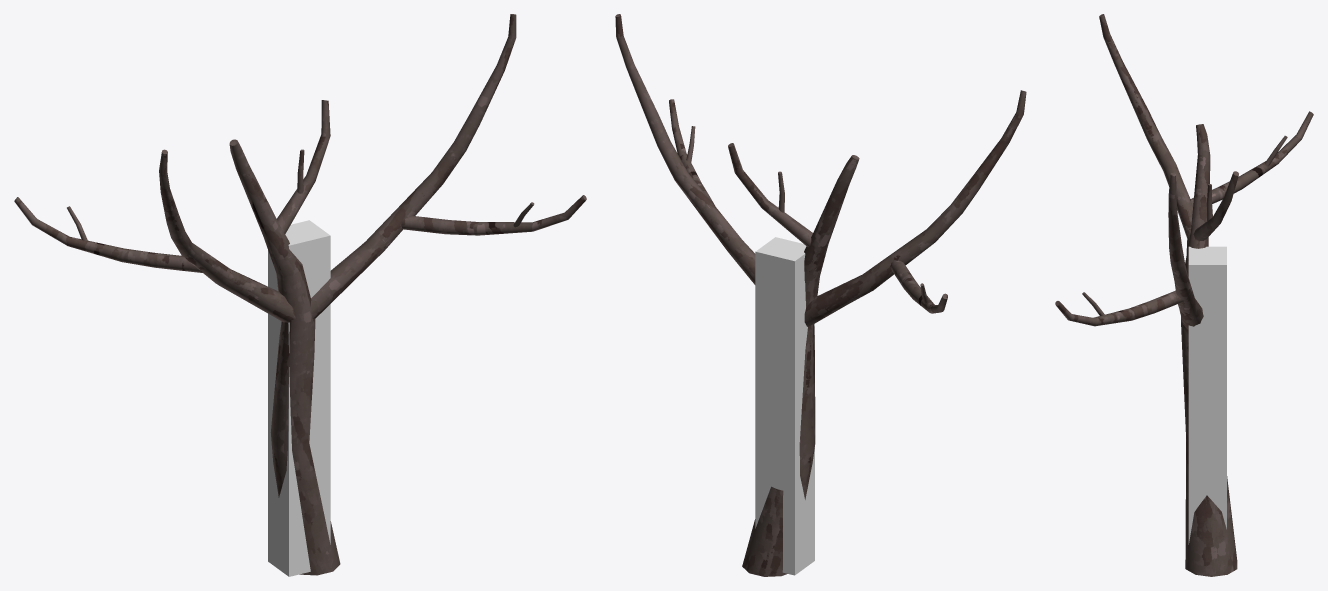
File: tree_dead_1.glb
The picture shows the model from 3 angles, left to right: view 1: azimuth 30°, elevation 25°; view 2: azimuth 150°, elevation 25°; view 3: azimuth 270°, elevation 25°; orthographic projection. The views are drawn at different scales.
Visible parts, largest first — view 1: DeadTree_5, Cube; view 2: DeadTree_5, Cube; view 3: DeadTree_5, Cube.
Part boxes in pixels (x1=…): DeadTree_5: x1=14, y1=14, x2=586, y2=575; Cube: x1=268, y1=220, x2=330, y2=576; DeadTree_5: x1=615, y1=14, x2=1026, y2=576; Cube: x1=755, y1=237, x2=814, y2=575; DeadTree_5: x1=1055, y1=14, x2=1313, y2=576; Cube: x1=1188, y1=246, x2=1226, y2=544.
Bounding box in the file's own units: 5.24 × 6.02 × 2.99.
Materials: 1 (1 with a texture image).
